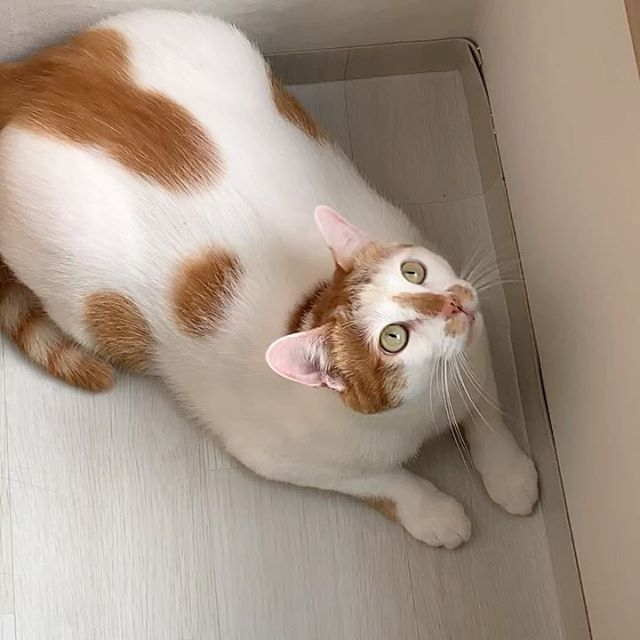cat: (265, 199, 493, 427)
